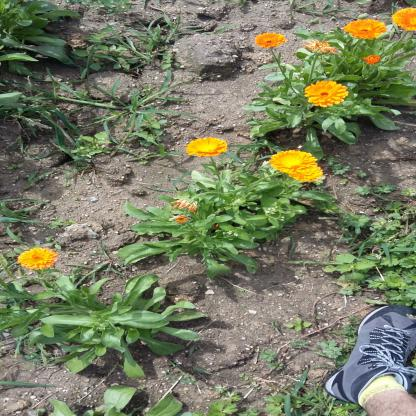marigold: (150, 101, 172, 145), (82, 69, 106, 109), (248, 358, 270, 398), (20, 30, 38, 70), (139, 189, 156, 227), (32, 129, 48, 161), (166, 93, 182, 124)
